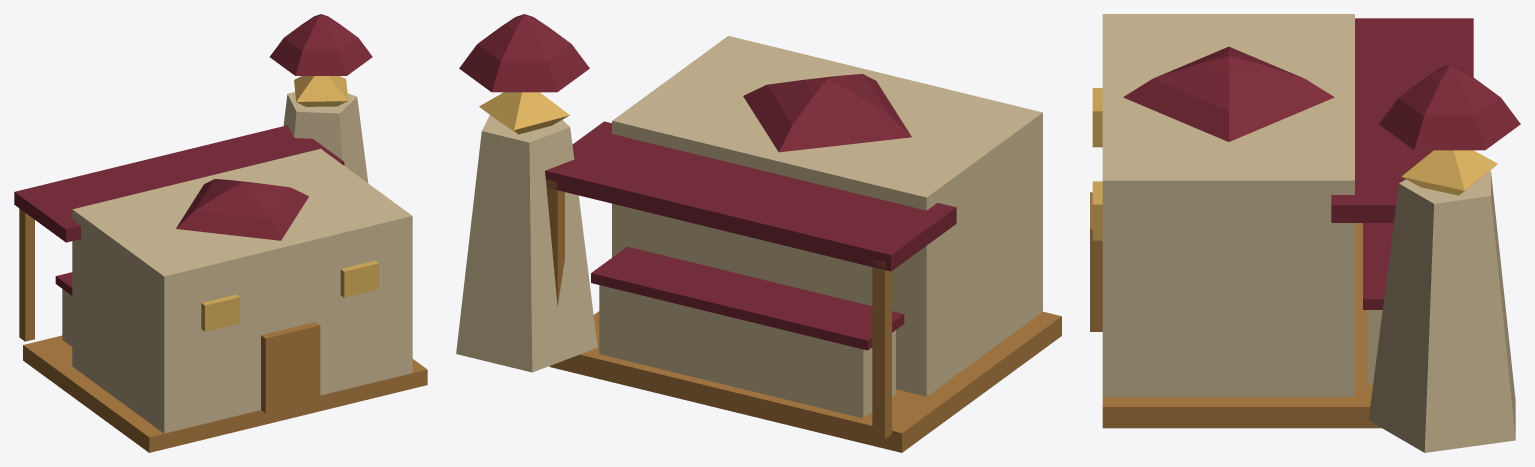
File: kiln_exchange.gltf
3 renders of one model, left to right at view 1: azimuth 30°, elevation 25°; view 2: azimuth 150°, elevation 25°; view 3: azimuth 270°, elevation 25°, orthographic. The views are drawn at different scales.
Visible parts, largest first — view 1: exchange; view 2: exchange; view 3: exchange.
Part boxes in pixels (x1=…): exchange: x1=14, y1=14, x2=427, y2=452; exchange: x1=456, y1=14, x2=1061, y2=452; exchange: x1=1090, y1=14, x2=1520, y2=452.
Size of the model in its own units: 6.98 by 5.27 by 5.46.
